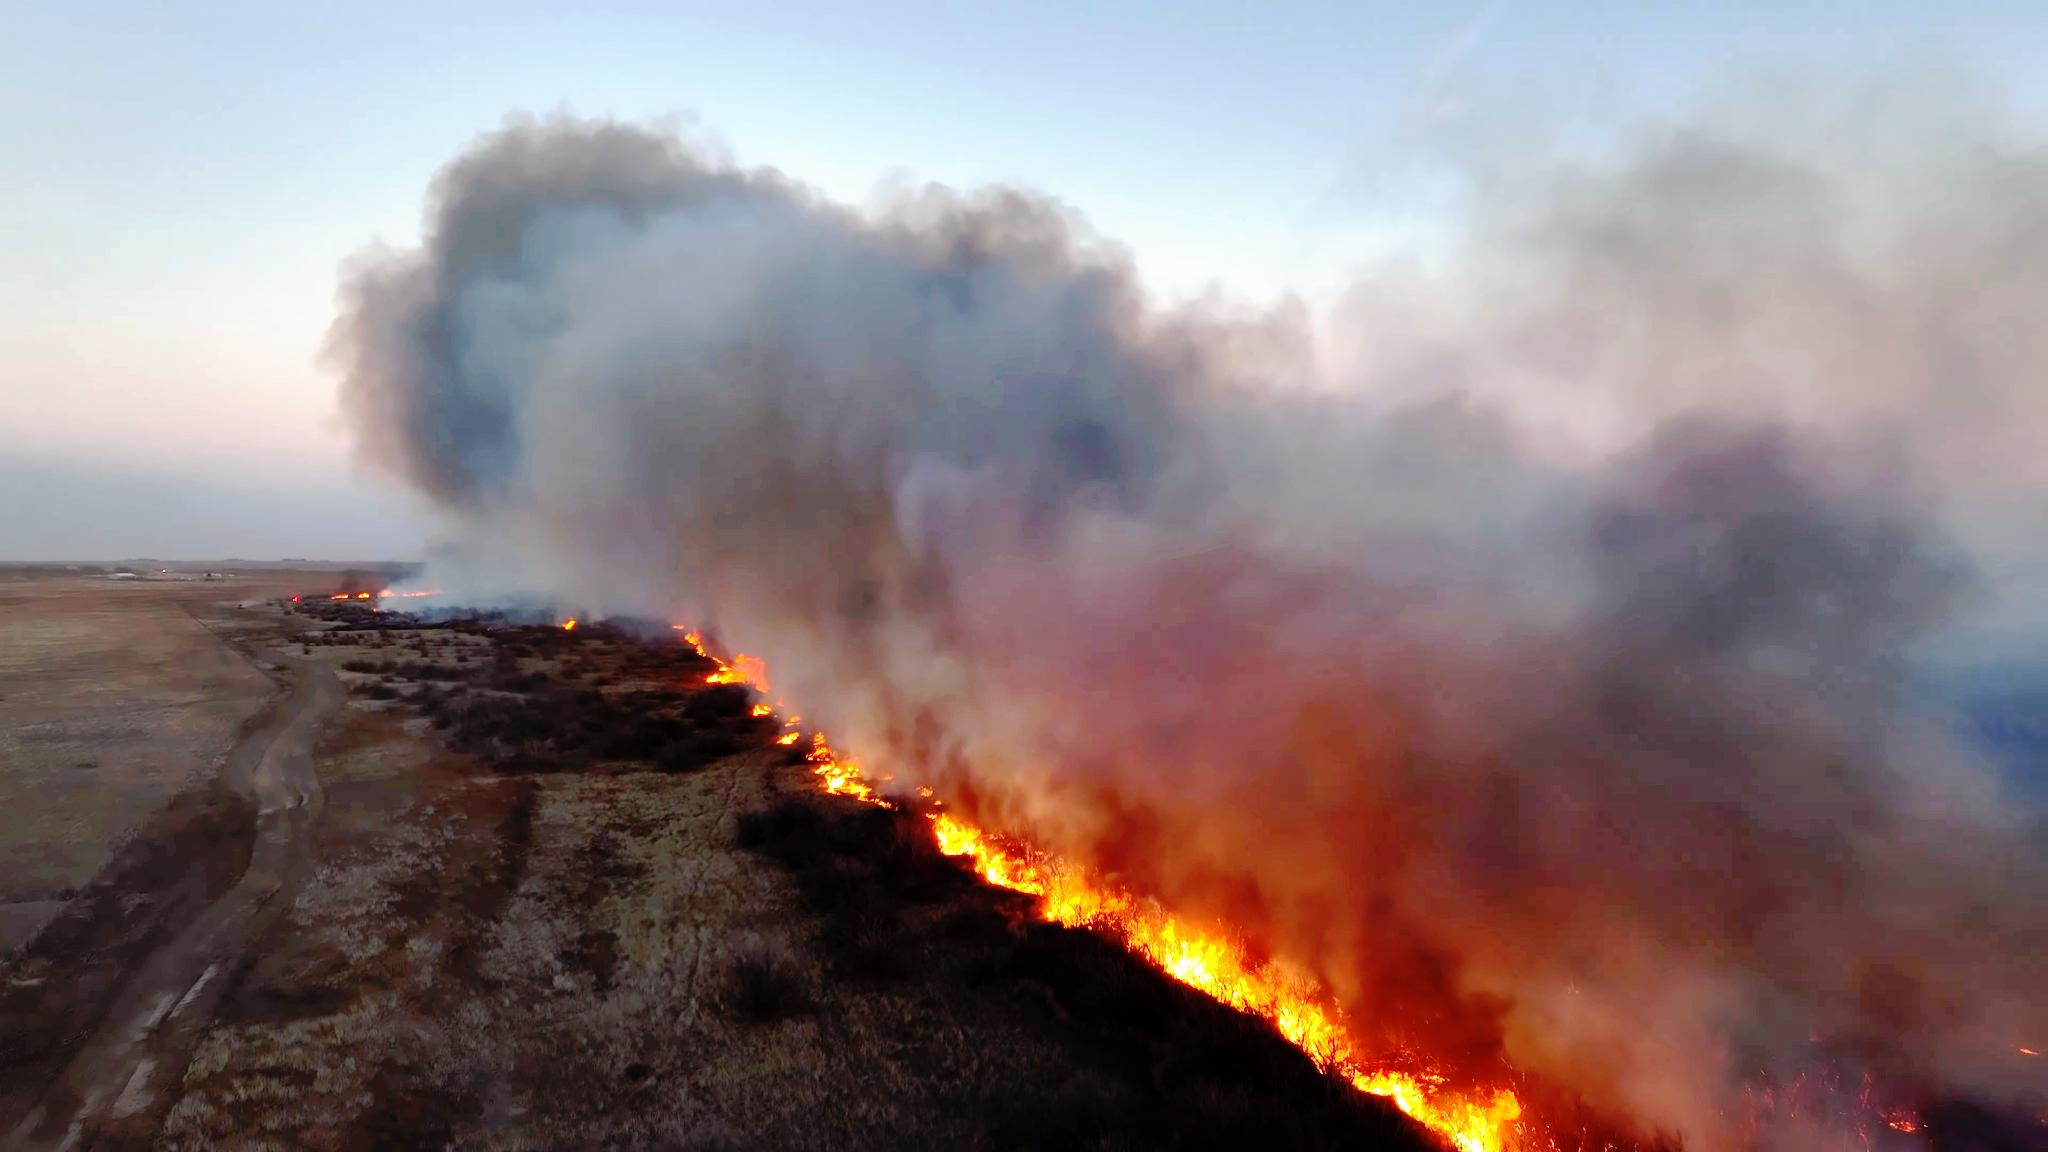fire: (1072, 889, 1259, 997), (1257, 1000, 1456, 1086), (937, 782, 1068, 909), (1381, 1070, 1521, 1152)
smoke: (414, 143, 1369, 612), (1616, 52, 2048, 1066), (881, 407, 1829, 774)
